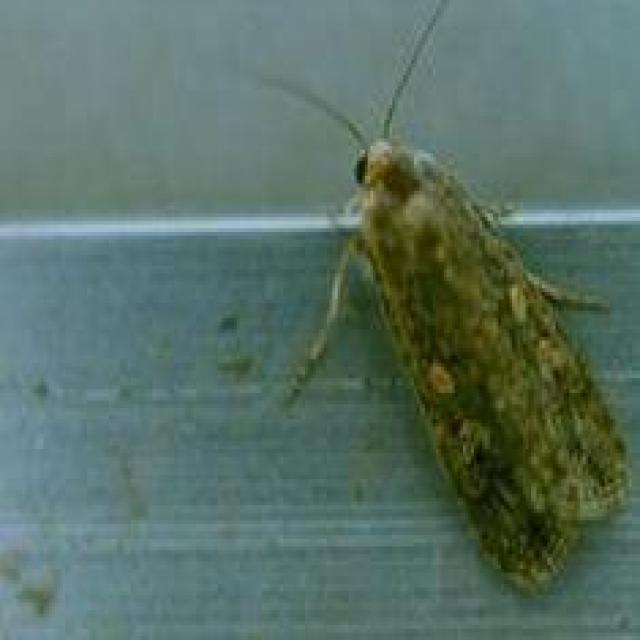BeetArmyWorm-Adult-: (273, 96, 637, 609)
